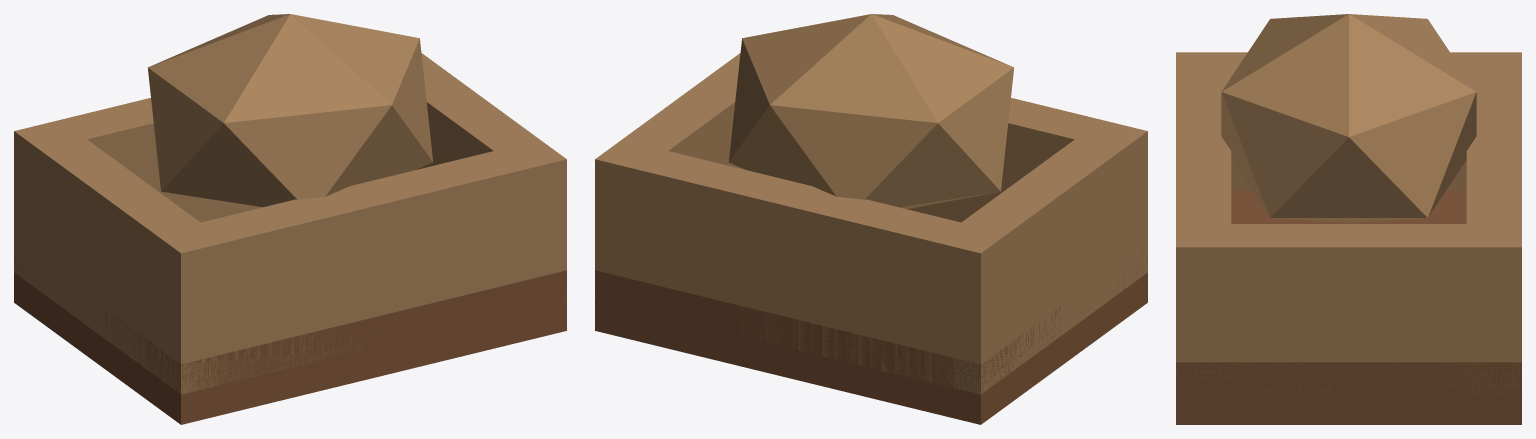
Rendered from set_shuttle_box.glb.
The picture shows the model from 3 angles, left to right: view 1: azimuth 30°, elevation 25°; view 2: azimuth 150°, elevation 25°; view 3: azimuth 270°, elevation 25°; orthographic projection. The views are drawn at different scales.
Visible parts, largest first — view 1: set_shuttle_box; view 2: set_shuttle_box; view 3: set_shuttle_box.
Boxes of the visible parts, box(x1,y1,x2,y2) form: set_shuttle_box: box(14, 14, 566, 424); set_shuttle_box: box(595, 14, 1147, 424); set_shuttle_box: box(1176, 14, 1521, 424).
Size of the model in its own units: 0.2 by 0.15 by 0.15.
